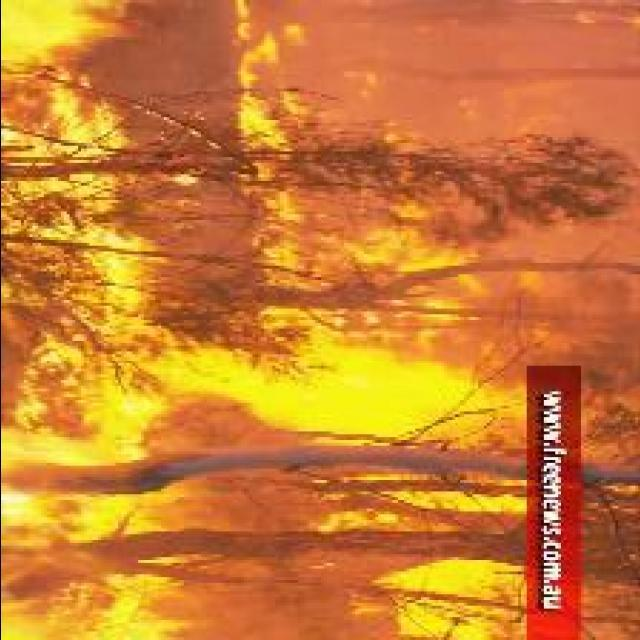Fire: (6, 181, 528, 473), (0, 494, 197, 637), (316, 203, 484, 277), (237, 3, 309, 157), (388, 563, 526, 640), (5, 0, 142, 77), (0, 78, 123, 152), (319, 490, 527, 530)
